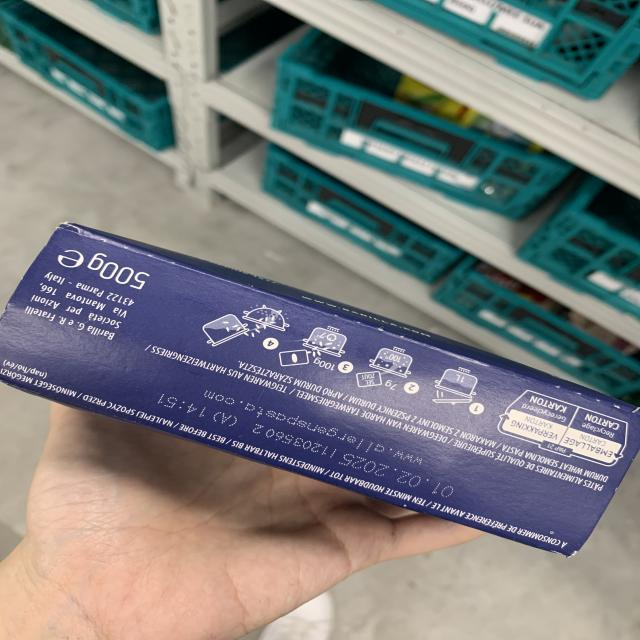object_name: (10, 228, 634, 536)
